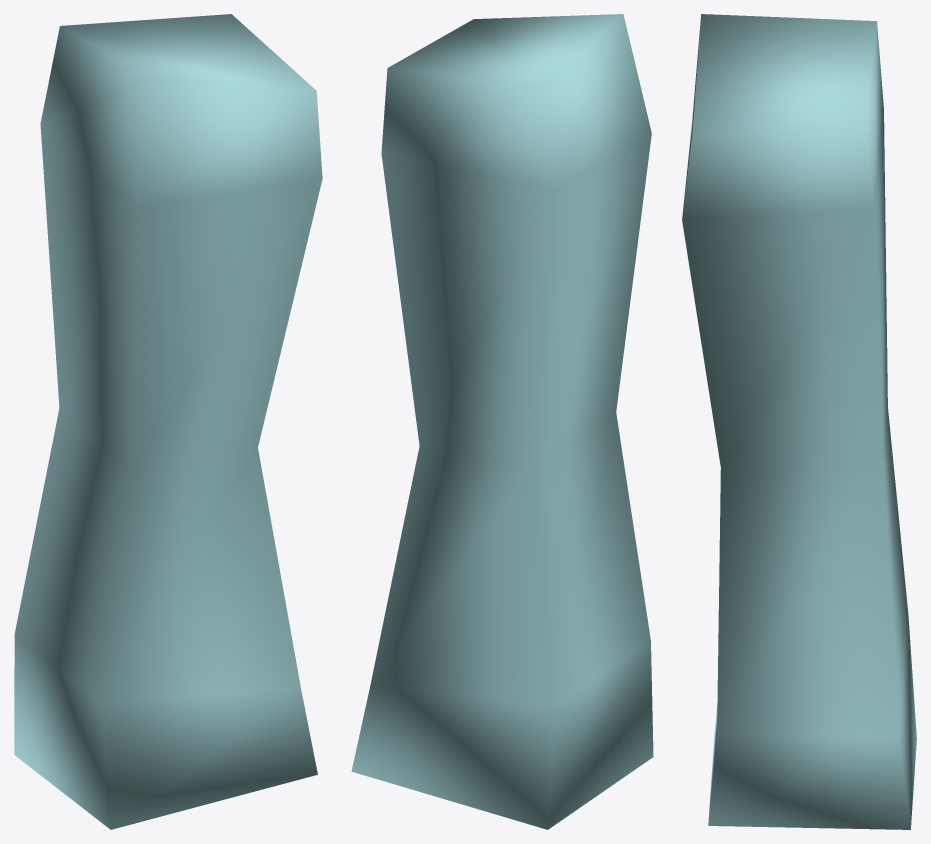
Rendered from Skelly_f_middle.01.L.fbx.
3 renders of one model, left to right at view 1: azimuth 30°, elevation 25°; view 2: azimuth 150°, elevation 25°; view 3: azimuth 270°, elevation 25°, orthographic. The views are drawn at different scales.
Parts seen in each view (by area): view 1: Skelly_f_middle.01.L; view 2: Skelly_f_middle.01.L; view 3: Skelly_f_middle.01.L.
Part boxes in pixels (x1=…): Skelly_f_middle.01.L: x1=14, y1=14, x2=322, y2=829; Skelly_f_middle.01.L: x1=351, y1=14, x2=653, y2=829; Skelly_f_middle.01.L: x1=682, y1=14, x2=916, y2=829.
Bounding box in the file's own units: 1.67 × 5.58 × 1.6.
